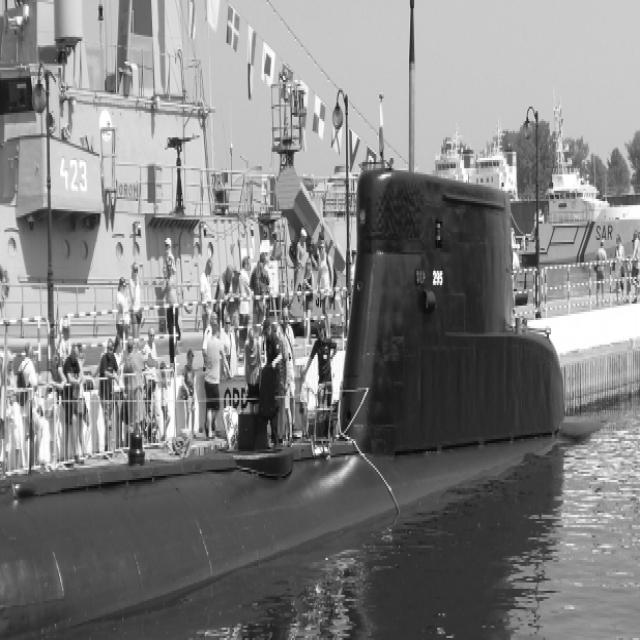submarine: (1, 175, 581, 640)
